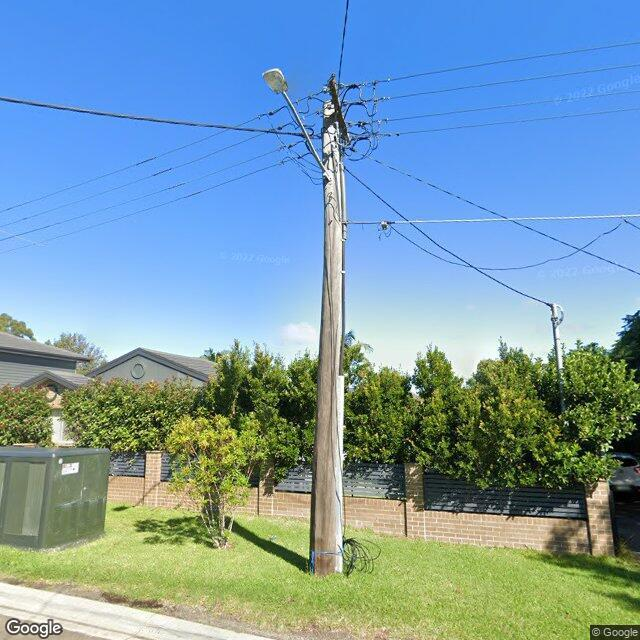crossarm: (328, 77, 351, 145)
steel-pole: (552, 304, 564, 374)
streetlight: (261, 66, 335, 182)
timber-pole: (311, 101, 345, 578)
